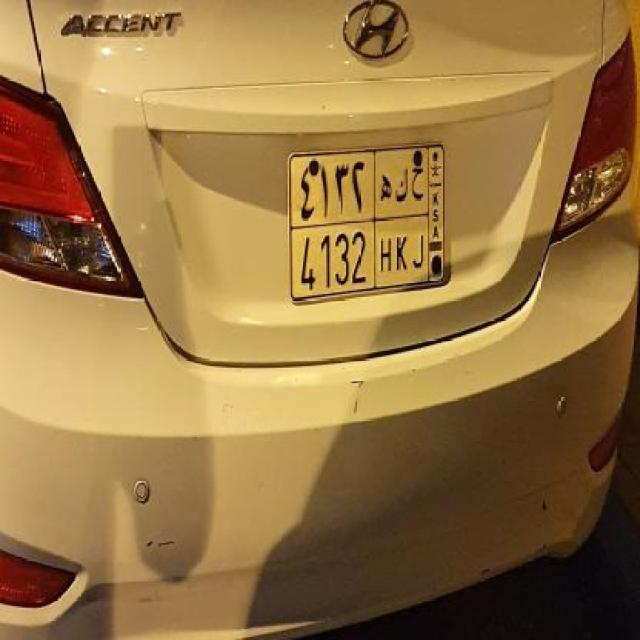license_plate: (284, 140, 448, 308)
